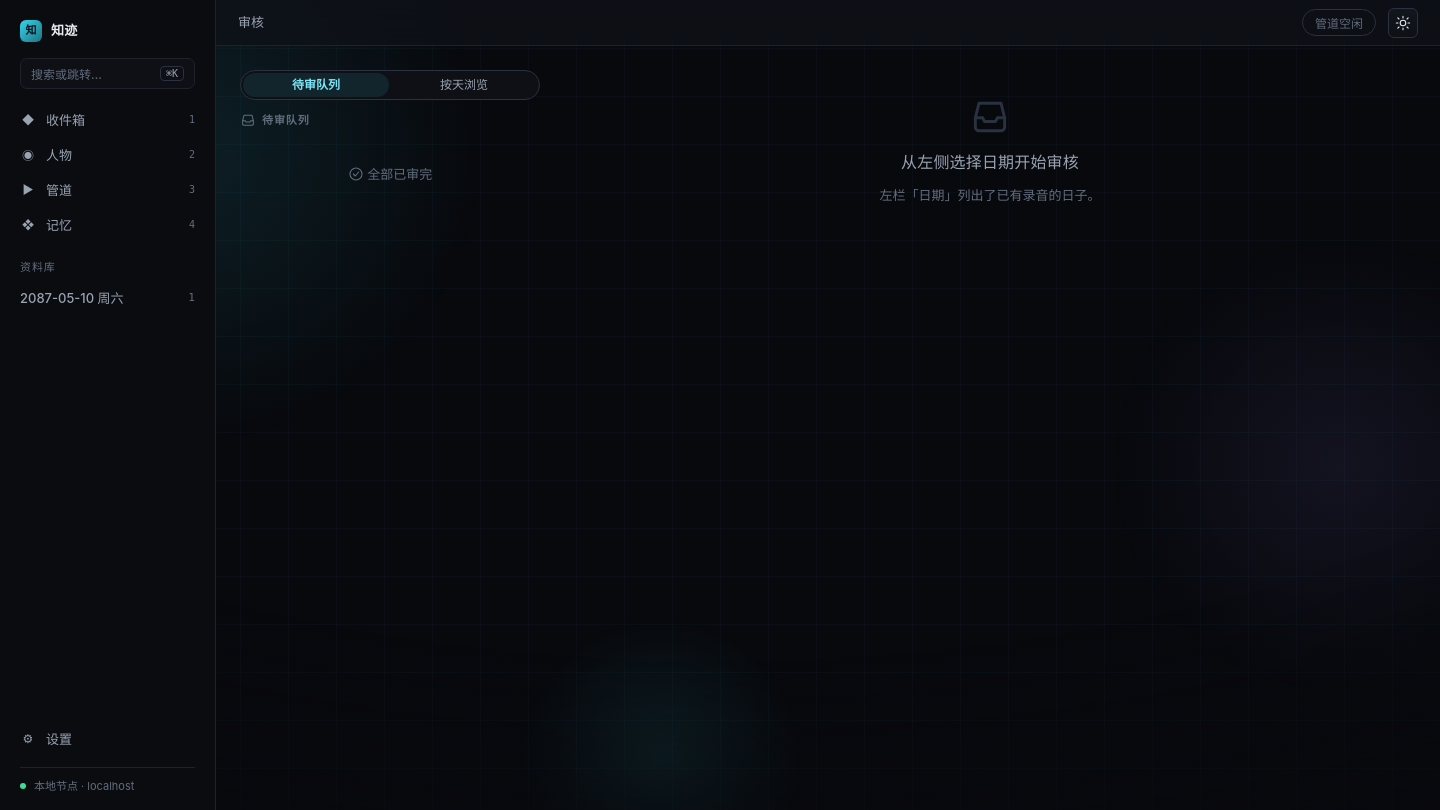
Test case: App container › optimistically flips a turn's accepted count and shows an Undo toast
Step 1. Click the tab "按天浏览" → (464, 85), box top-left (391, 73), bottom-right (537, 97)
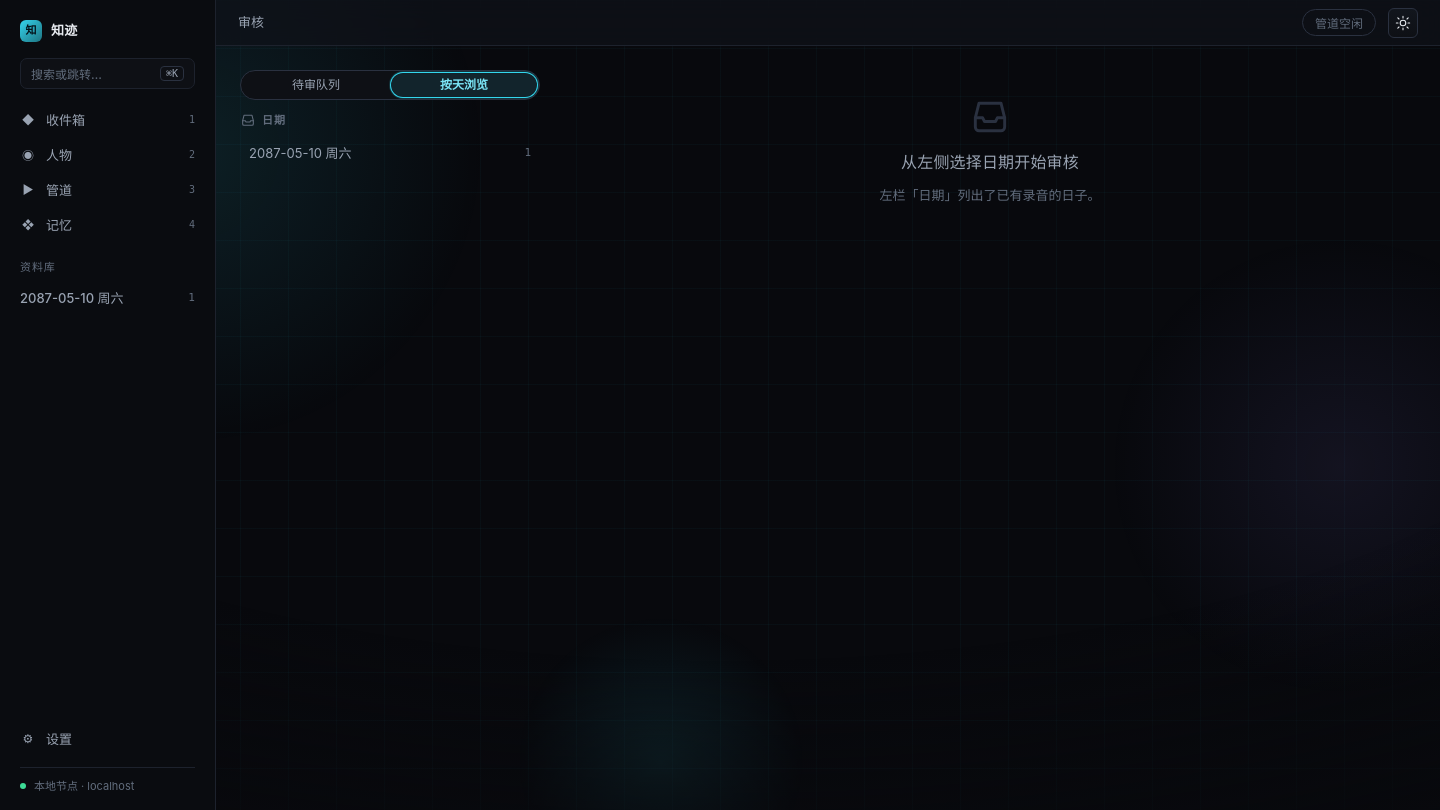
Step 2. Click the button "2087-05-10 周六 1" in the row of "从左侧选择日期开始审核" → (300, 152), box top-left (240, 136), bottom-right (540, 170)
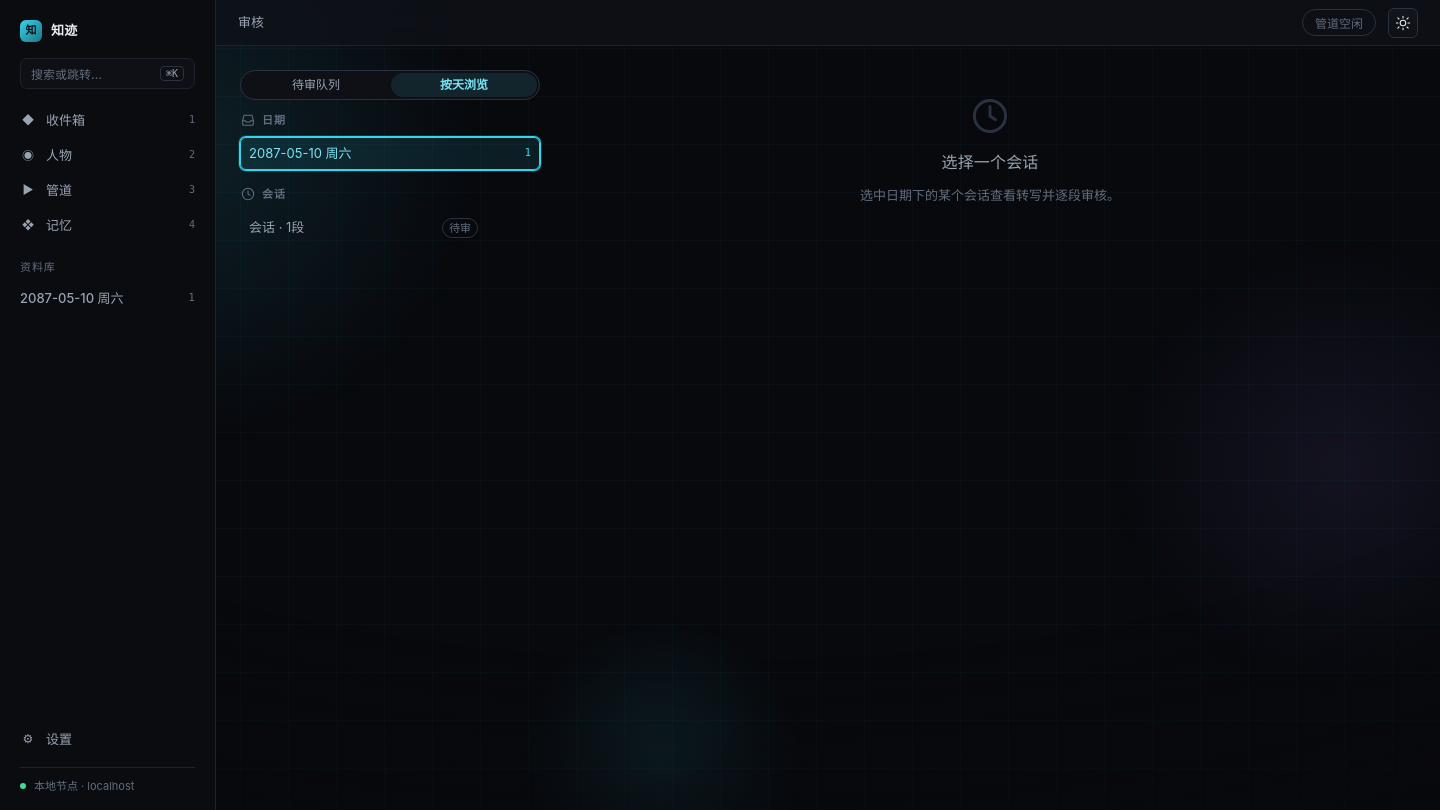
Step 3. Click the button with aria-label "ses_1" → (364, 228), box top-left (240, 210), bottom-right (487, 245)
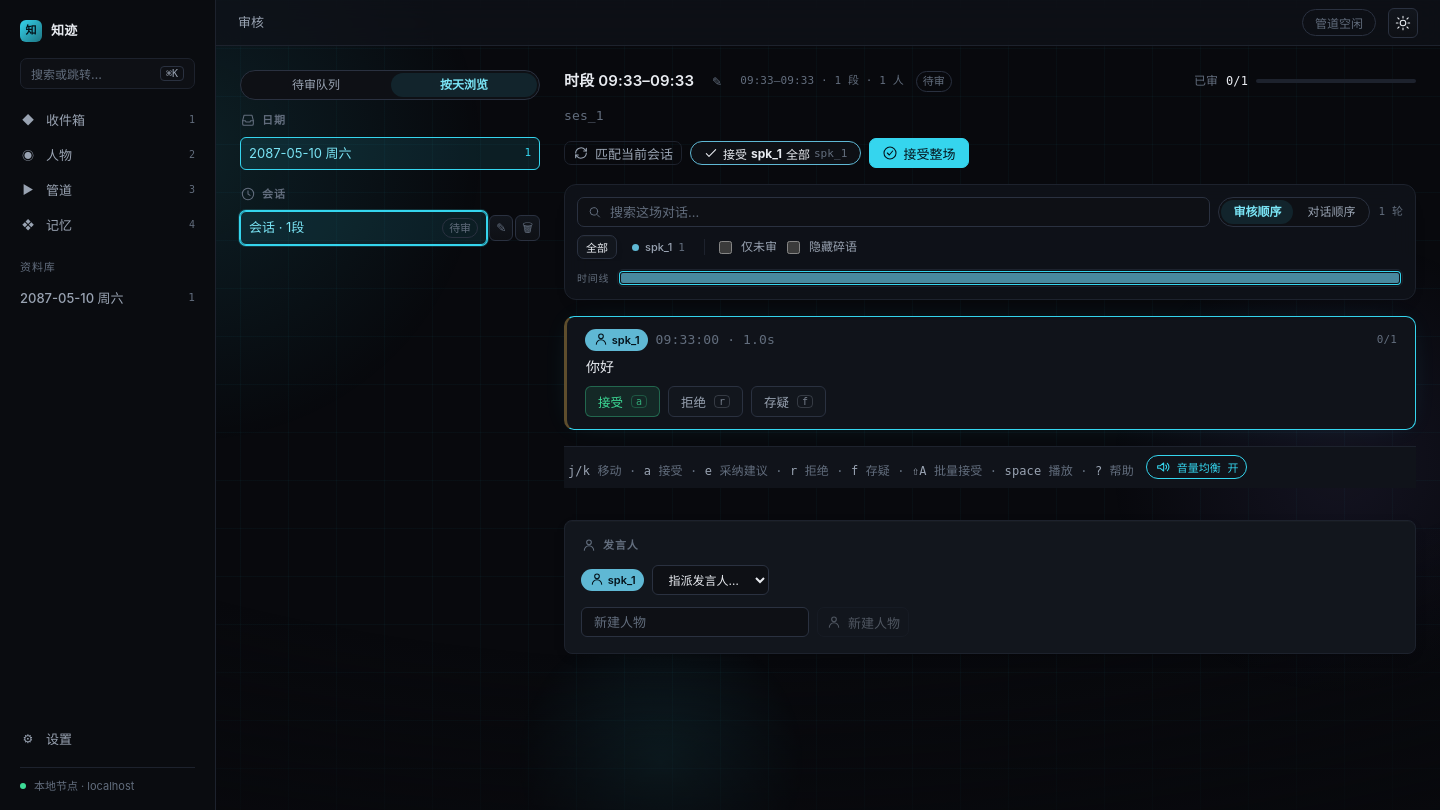
Expected: the text with class "turn-summary" reads "0/1", top-left (1377, 332), bottom-right (1397, 348)
Step 4. Click the button "接受 a" → (622, 401), box top-left (585, 386), bottom-right (660, 417)
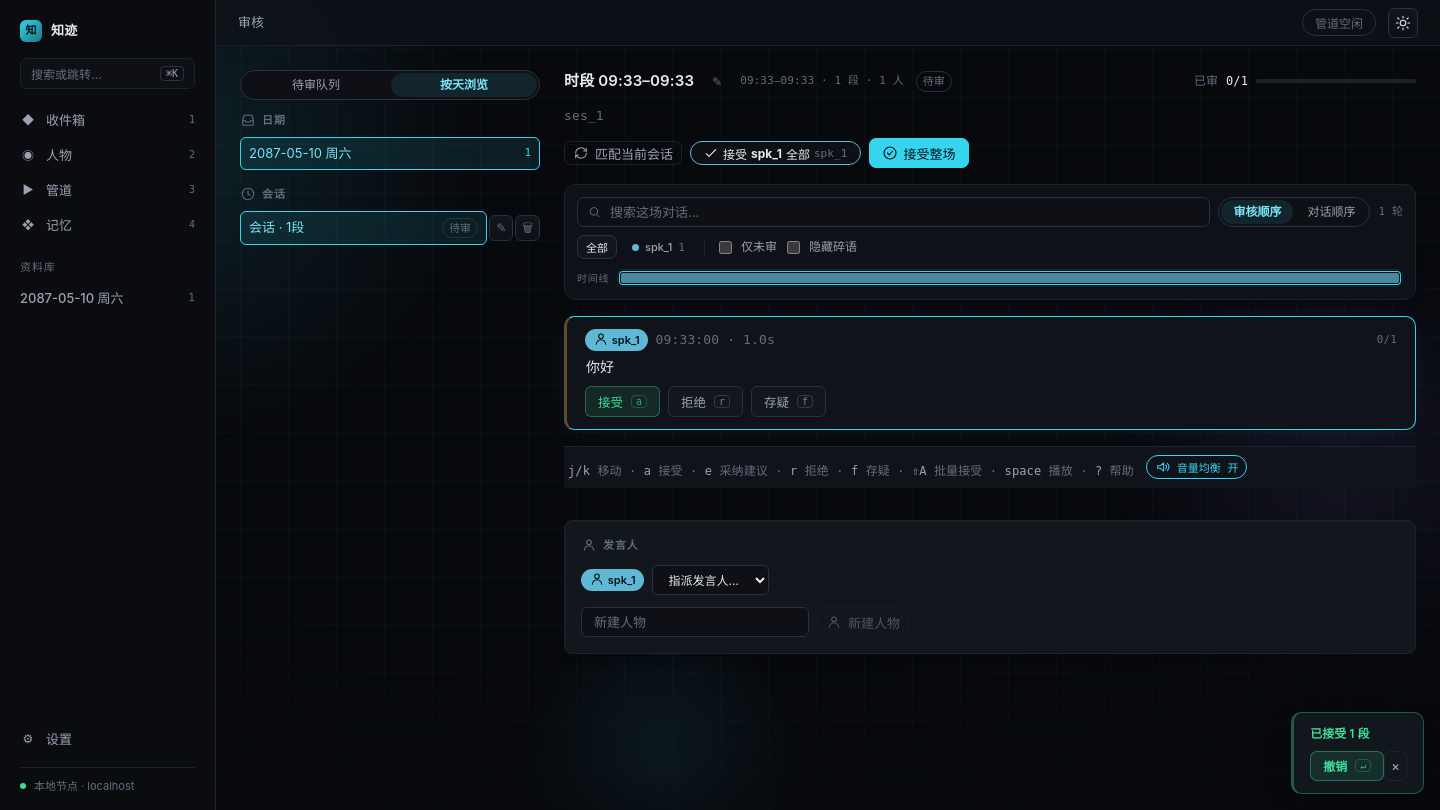
Expected: the text "✓ 已接受" in the row of "1.0" is shown, top-left (1377, 332), bottom-right (1397, 348)
Expected: the button "撤销 ↵" is shown, top-left (1310, 750), bottom-right (1384, 780)
